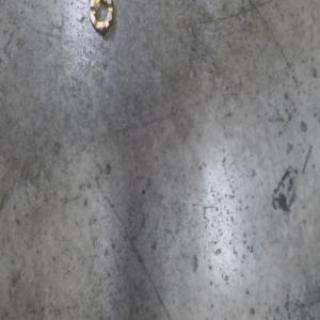Nuttrack_idkeyframe: (86, 0, 115, 39)
